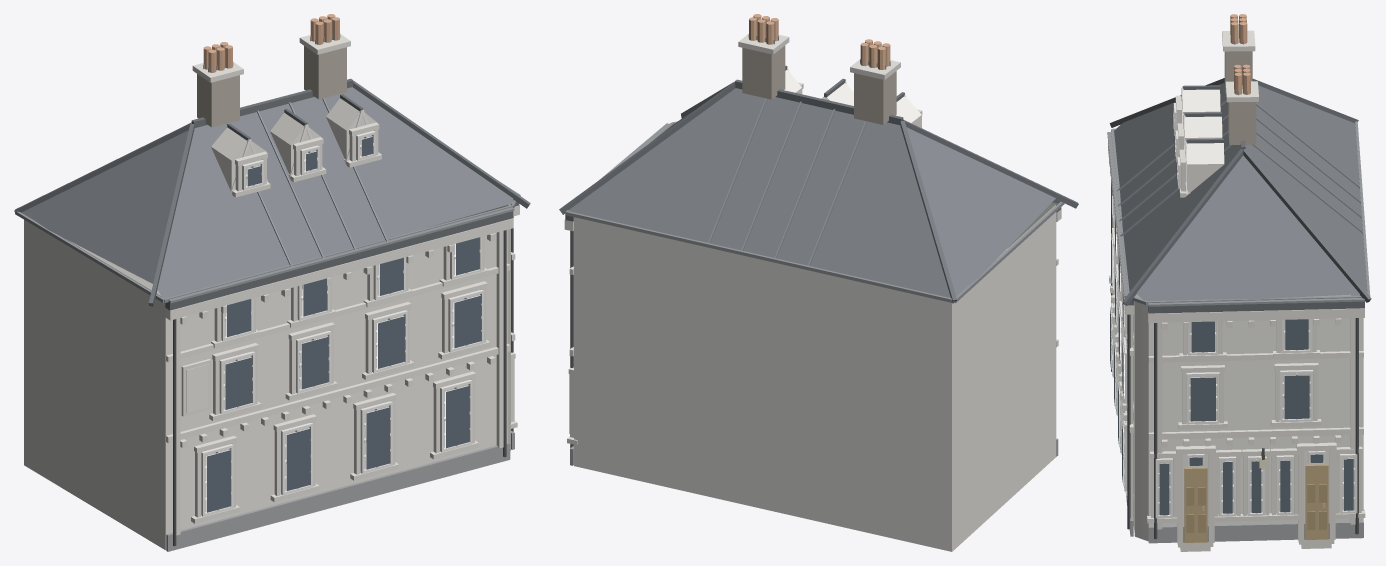
The picture shows the model from 3 angles, left to right: view 1: azimuth 30°, elevation 25°; view 2: azimuth 150°, elevation 25°; view 3: azimuth 270°, elevation 25°; orthographic projection. The views are drawn at different scales.
Visible parts, largest first — view 1: harl, slate, string, frame, plinth, slate_dk, chim_stone, lead, band_dark, pipe, pot, window_glass_021 (+12 smaller); view 2: harl, slate, slate_dk, chim_stone, lead, string, slate_lt, pot; view 3: slate, harl, string, frame, slate_dk, lead, plinth, door_wood, pipe, slate_lt, chim_stone, band_dark (+11 smaller).
Boxes of the visible parts, bbox=[...] form: harl: bbox=[24, 98, 510, 550]; slate: bbox=[21, 87, 513, 298]; string: bbox=[165, 34, 519, 535]; frame: bbox=[201, 109, 483, 516]; plinth: bbox=[166, 430, 514, 551]; slate_dk: bbox=[14, 78, 530, 306]; chim_stone: bbox=[197, 46, 346, 127]; lead: bbox=[15, 34, 520, 303]; band_dark: bbox=[165, 200, 519, 310]; pipe: bbox=[173, 216, 513, 546]; pot: bbox=[203, 14, 339, 72]; window_glass_021: bbox=[286, 428, 310, 490]; harl: bbox=[574, 70, 1056, 551]; slate: bbox=[569, 88, 1060, 297]; slate_dk: bbox=[559, 65, 1078, 303]; chim_stone: bbox=[742, 45, 896, 124]; lead: bbox=[565, 34, 1064, 303]; string: bbox=[564, 34, 1061, 445]; slate_lt: bbox=[708, 98, 955, 301]; pot: bbox=[749, 14, 890, 69]; slate: bbox=[1114, 82, 1367, 300]; harl: bbox=[1113, 89, 1363, 541]; string: bbox=[1108, 30, 1365, 551]; frame: bbox=[1111, 87, 1357, 518]; slate_dk: bbox=[1109, 78, 1371, 305]; lead: bbox=[1107, 40, 1370, 306]; plinth: bbox=[1126, 500, 1363, 543]; door_wood: bbox=[1184, 464, 1328, 542]; pipe: bbox=[1111, 209, 1358, 539]; slate_lt: bbox=[1116, 99, 1369, 304]; chim_stone: bbox=[1224, 51, 1256, 144]; band_dark: bbox=[1128, 300, 1364, 313].
Bounding box in the file's own units: 11.67 × 12.31 × 7.05.
